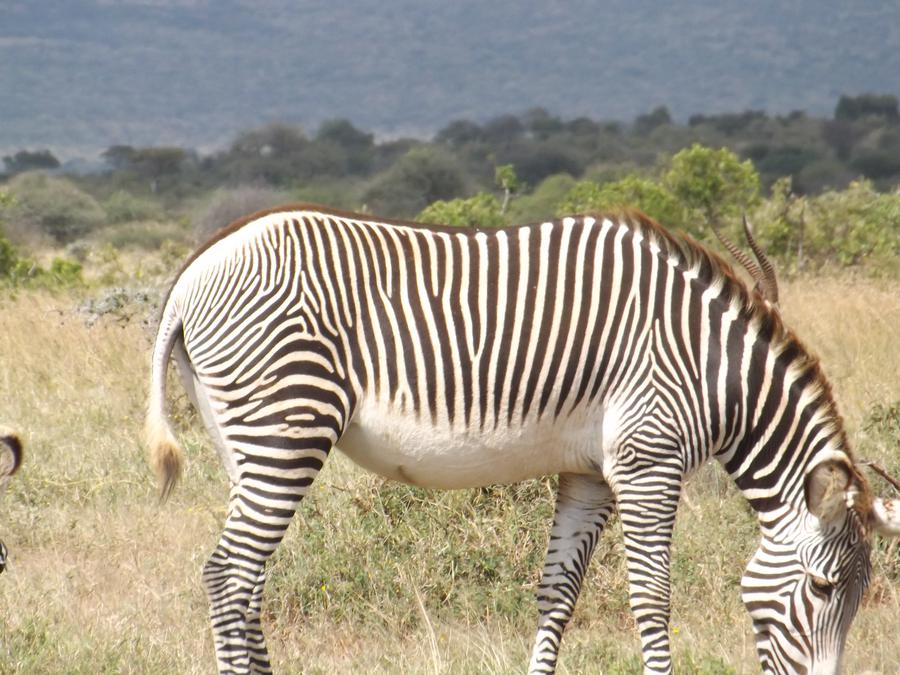zebra_grevys: (151, 180, 689, 483)
